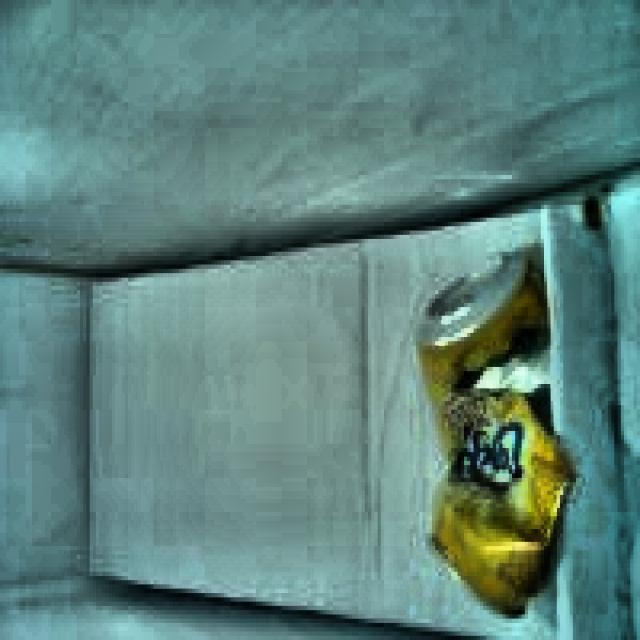Cans: (396, 238, 574, 616)
